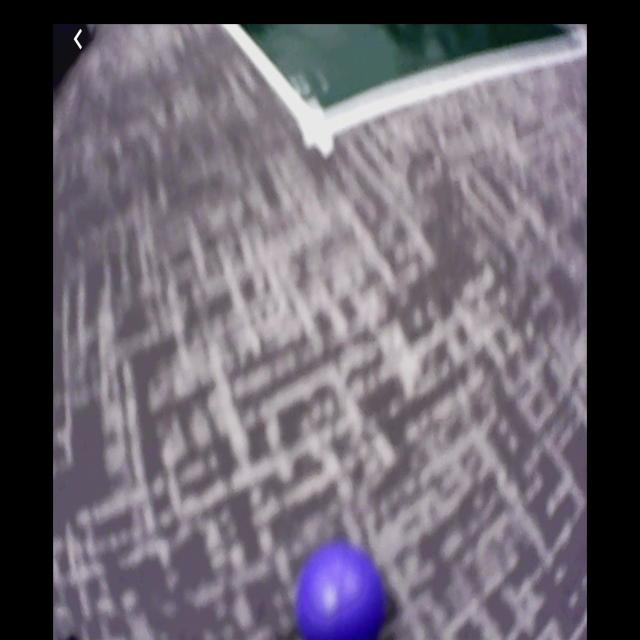ball: (291, 544, 385, 640)
